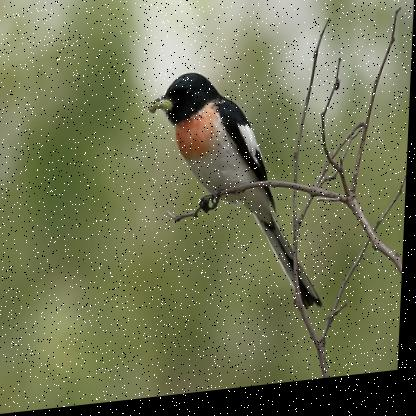Burung: (145, 65, 333, 331)
